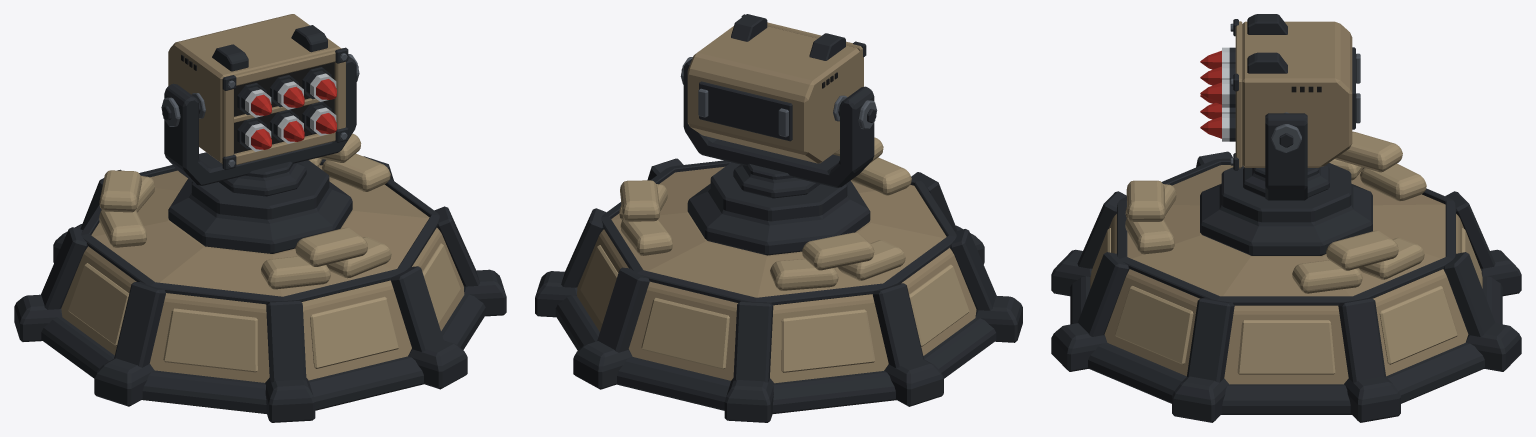
Rendered from rk40-brasa-n2.glb.
3 views of the same model, side by side, from view 1: azimuth 30°, elevation 25°; view 2: azimuth 150°, elevation 25°; view 3: azimuth 270°, elevation 25° (orthographic).
Parts seen in each view (by area): view 1: casco, gun_pitch, turret_yaw, rocket_02, rocket_05, rocket_03, rocket_06, rocket_01, rocket_04; view 2: casco, gun_pitch, turret_yaw; view 3: casco, gun_pitch, turret_yaw, rocket_06, rocket_03, rocket_01, rocket_02.
Boxes of the visible parts, left/top/right/bottom form: casco: left=14, top=133, right=506, bottom=422; gun_pitch: left=168, top=14, right=348, bottom=169; turret_yaw: left=161, top=54, right=359, bottom=196; rocket_02: left=273, top=78, right=304, bottom=109; rocket_05: left=273, top=112, right=304, bottom=143; rocket_03: left=306, top=70, right=336, bottom=101; rocket_06: left=306, top=104, right=336, bottom=135; rocket_01: left=241, top=86, right=271, bottom=117; rocket_04: left=241, top=120, right=271, bottom=151; casco: left=535, top=137, right=1022, bottom=422; gun_pitch: left=687, top=14, right=866, bottom=163; turret_yaw: left=680, top=57, right=877, bottom=198; casco: left=1051, top=131, right=1521, bottom=422; gun_pitch: left=1230, top=14, right=1360, bottom=170; turret_yaw: left=1243, top=113, right=1329, bottom=200; rocket_06: left=1200, top=113, right=1235, bottom=141; rocket_03: left=1200, top=79, right=1235, bottom=107; rocket_01: left=1200, top=47, right=1235, bottom=69; rocket_02: left=1200, top=63, right=1235, bottom=85.
Size of the model in its own units: 1 by 0.675 by 1.
